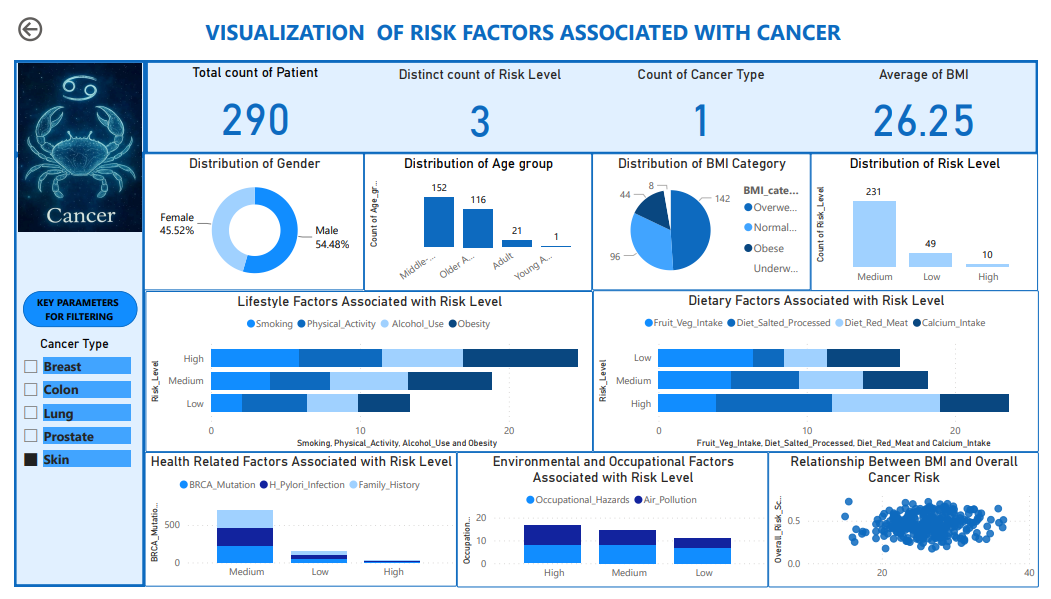

Layout of this report page (visuals, bound fields, positions):
{"tool":"powerbi","page":{"name":"Page 1","canvas":[1280,720],"ordinal":0},"visuals":[{"type":"shape","box":[0,176.6,163.2,539.7],"z":500},{"type":"textbox","box":[0,0,1279.3,58.6],"z":1000},{"type":"actionButton","box":[0,0,100,40],"z":2000},{"type":"slicer","title":"Cancer Type","fields":{"Values":["cancer-risk-factors.Cancer_Type"]},"box":[0,403.3,151.4,212],"z":3000},{"type":"shape","box":[163.8,58.6,1115.5,117.2],"z":4000},{"type":"shape","box":[0,58.6,163.8,117.2],"z":5000},{"type":"card","title":"Total count of Patient","fields":{"Values":["CountNonNull(cancer-risk-factors.Patient_ID)"]},"box":[192.3,64.1,219.2,106.2],"z":6000},{"type":"card","title":"Distinct count of Risk Level","fields":{"Values":["Count(cancer-risk-factors.Risk_Level)"]},"box":[470.5,65.8,222.6,106.2],"z":7000},{"type":"card","title":"Count of Cancer Type","fields":{"Values":["Count(cancer-risk-factors.Cancer_Type)"]},"box":[748.8,65.8,219.2,104.6],"z":8000},{"type":"card","title":"Average of BMI","fields":{"Values":["Avg(cancer-risk-factors.BMI)"]},"box":[1027,65.8,219.2,104.6],"z":9000},{"type":"donutChart","title":"Distribution of Gender ","fields":{"Category":["cancer-risk-factors.Gender"],"Y":["CountNonNull(cancer-risk-factors.Gender)"]},"box":[162,175.4,275.3,170.6],"z":10000},{"type":"columnChart","title":"Distribution of Age group","fields":{"Category":["cancer-risk-factors.Age_group"],"Y":["CountNonNull(cancer-risk-factors.Age_group)"]},"box":[436.8,175.4,285,172],"z":11000},{"type":"pieChart","title":"Distribution of BMI Category","fields":{"Category":["cancer-risk-factors.BMI_category"],"Y":["CountNonNull(cancer-risk-factors.BMI_category)"]},"box":[721.8,175.4,273.2,170.3],"z":12000},{"type":"columnChart","title":"Distribution of Risk Level","fields":{"Category":["cancer-risk-factors.Risk_Level"],"Y":["CountNonNull(cancer-risk-factors.Risk_Level)"]},"box":[994.9,175.6,283.3,170.5],"z":13000},{"type":"barChart","title":"Dietary Factors Associated with Risk Level","fields":{"Category":["cancer-risk-factors.Risk_Level"],"Y":["Avg(cancer-risk-factors.Fruit_Veg_Intake)","Avg(cancer-risk-factors.Diet_Salted_Processed)","Avg(cancer-risk-factors.Diet_Red_Meat)","Avg(cancer-risk-factors.Calcium_Intake)"]},"box":[723.2,346.4,557.1,201.8],"z":14000},{"type":"barChart","title":"Lifestyle Factors Associated with Risk Level","fields":{"Category":["cancer-risk-factors.Risk_Level"],"Y":["Avg(cancer-risk-factors.Smoking)","Avg(cancer-risk-factors.Physical_Activity)","Avg(cancer-risk-factors.Alcohol_Use)","Avg(cancer-risk-factors.Obesity)"]},"box":[163.6,347.4,559.9,200.7],"z":15000},{"type":"columnChart","title":"Health Related Factors Associated with Risk Level","fields":{"Category":["cancer-risk-factors.Risk_Level"],"Y":["CountNonNull(cancer-risk-factors.BRCA_Mutation)","CountNonNull(cancer-risk-factors.H_Pylori_Infection)","CountNonNull(cancer-risk-factors.Family_History)"]},"box":[163.2,548.2,389.8,168.1],"z":16000},{"type":"columnChart","title":"Environmental and Occupational Factors Associated with Risk Level","fields":{"Category":["cancer-risk-factors.Risk_Level"],"Y":["Avg(cancer-risk-factors.Occupational_Hazards)","Avg(cancer-risk-factors.Air_Pollution)"]},"box":[553.3,548.3,388.3,168.3],"z":17000},{"type":"scatterChart","title":"Relationship Between BMI and Overall Cancer Risk","fields":{"Y":["cancer-risk-factors.Overall_Risk_Score"],"X":["Sum(cancer-risk-factors.BMI)"]},"box":[941.7,548.3,338.3,168.3],"z":18000},{"type":"shape","box":[11,346.8,143.1,45.4],"z":19000},{"type":"textbox","box":[12.4,346.8,139,45.4],"z":20000},{"type":"image","box":[0,57.8,163.8,220.2],"z":21000}]}

Visuals, with their boxes in screenshot pixels (x1, y1, x2, y2), scaled from the page's 1280x720 canvas onto the 1051x599 screenshot:
shape: [left=0, top=147, right=134, bottom=596]
textbox: [left=0, top=0, right=1050, bottom=49]
actionButton: [left=0, top=0, right=82, bottom=33]
"Cancer Type" slicer: [left=0, top=336, right=124, bottom=512]
shape: [left=134, top=49, right=1050, bottom=146]
shape: [left=0, top=49, right=134, bottom=146]
"Total count of Patient" card: [left=158, top=53, right=338, bottom=142]
"Distinct count of Risk Level" card: [left=386, top=55, right=569, bottom=143]
"Count of Cancer Type" card: [left=615, top=55, right=795, bottom=142]
"Average of BMI" card: [left=843, top=55, right=1023, bottom=142]
"Distribution of Gender " donutChart: [left=133, top=146, right=359, bottom=288]
"Distribution of Age group" columnChart: [left=359, top=146, right=593, bottom=289]
"Distribution of BMI Category" pieChart: [left=593, top=146, right=817, bottom=288]
"Distribution of Risk Level" columnChart: [left=817, top=146, right=1050, bottom=288]
"Dietary Factors Associated with Risk Level" barChart: [left=594, top=288, right=1050, bottom=456]
"Lifestyle Factors Associated with Risk Level" barChart: [left=134, top=289, right=594, bottom=456]
"Health Related Factors Associated with Risk Level" columnChart: [left=134, top=456, right=454, bottom=596]
"Environmental and Occupational Factors Associated with Risk Level" columnChart: [left=454, top=456, right=773, bottom=596]
"Relationship Between BMI and Overall Cancer Risk" scatterChart: [left=773, top=456, right=1050, bottom=596]
shape: [left=9, top=289, right=127, bottom=326]
textbox: [left=10, top=289, right=124, bottom=326]
image: [left=0, top=48, right=134, bottom=231]
